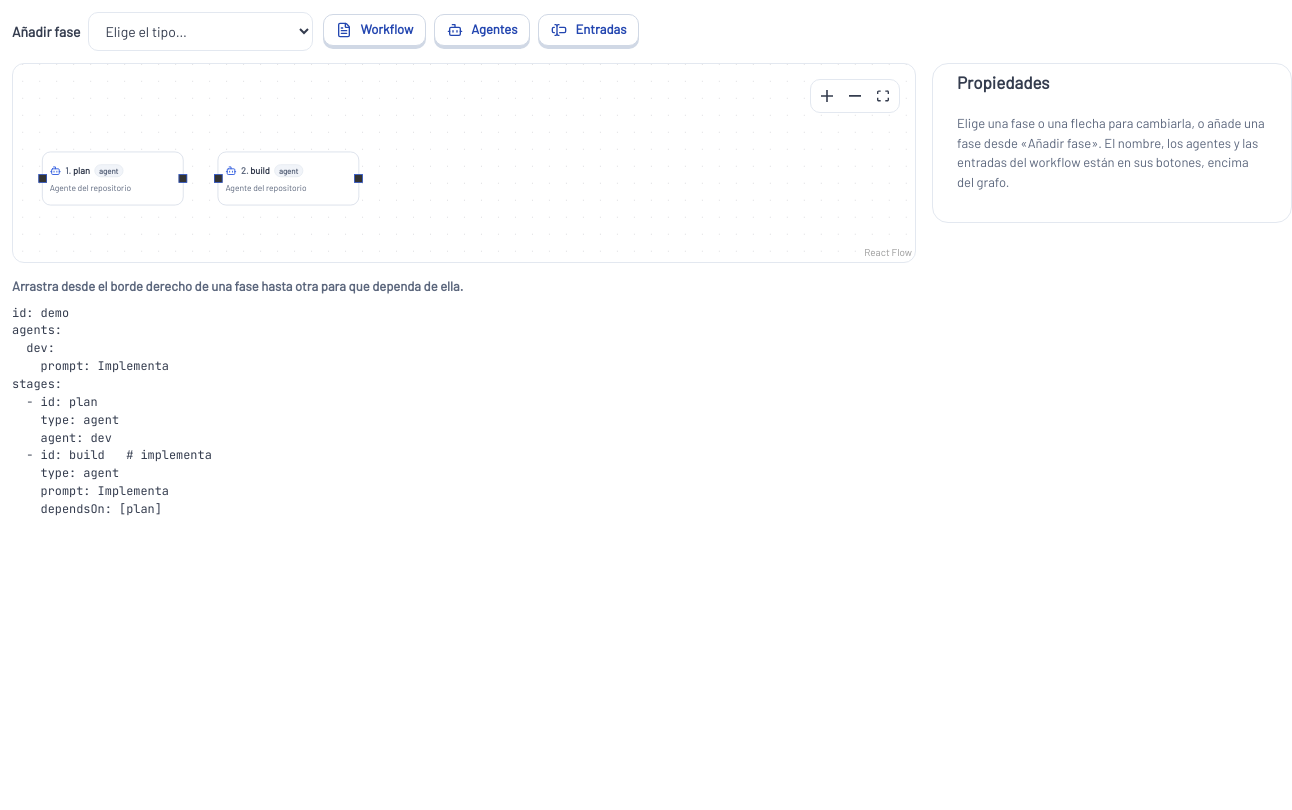
it: GraphEditor › renombra una fase desde su panel y actualiza lo que la nombra
The image size is (1292, 810).
Click the button "1. plan agent Agente del repositorio".
click(113, 178)  # box [43,152,183,205]
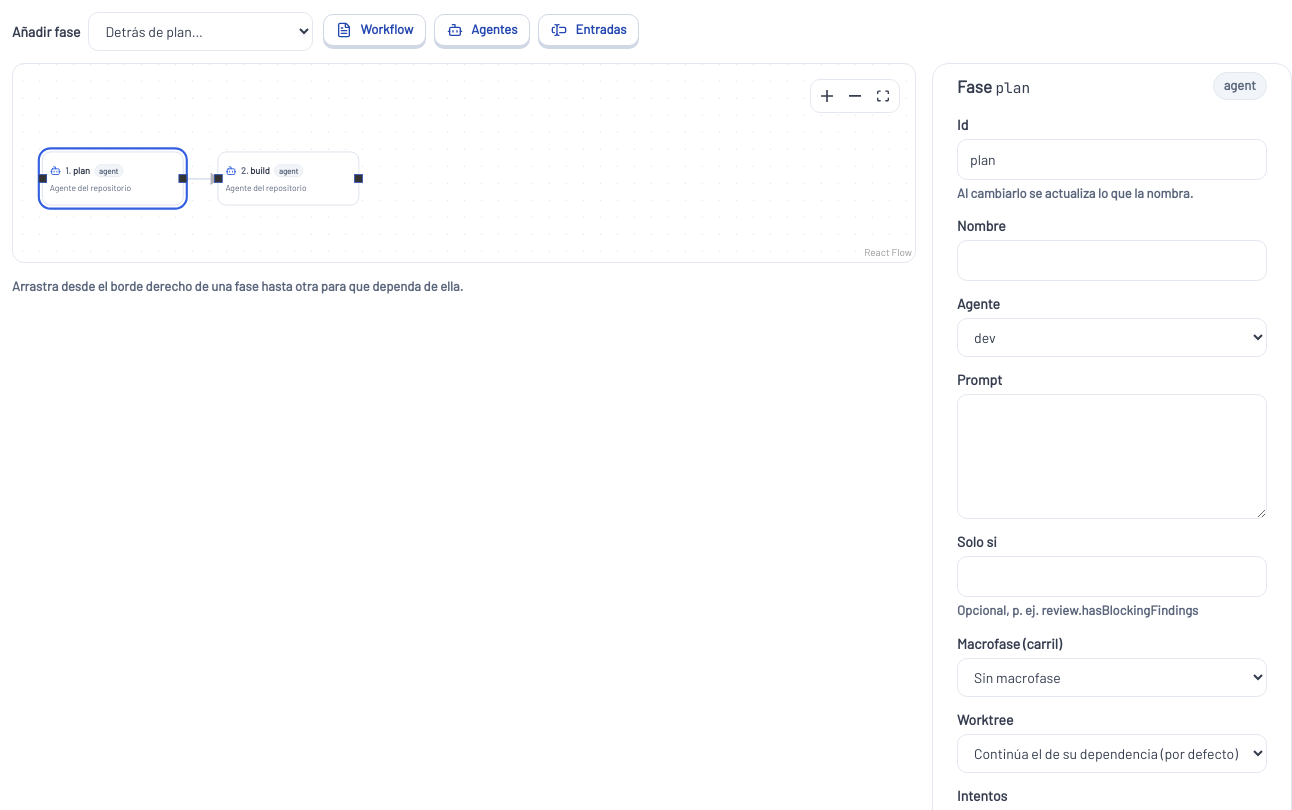
Replace the text in the field labelled "Id" with "planificar" at (1112, 159), box [957,138,1267,180]
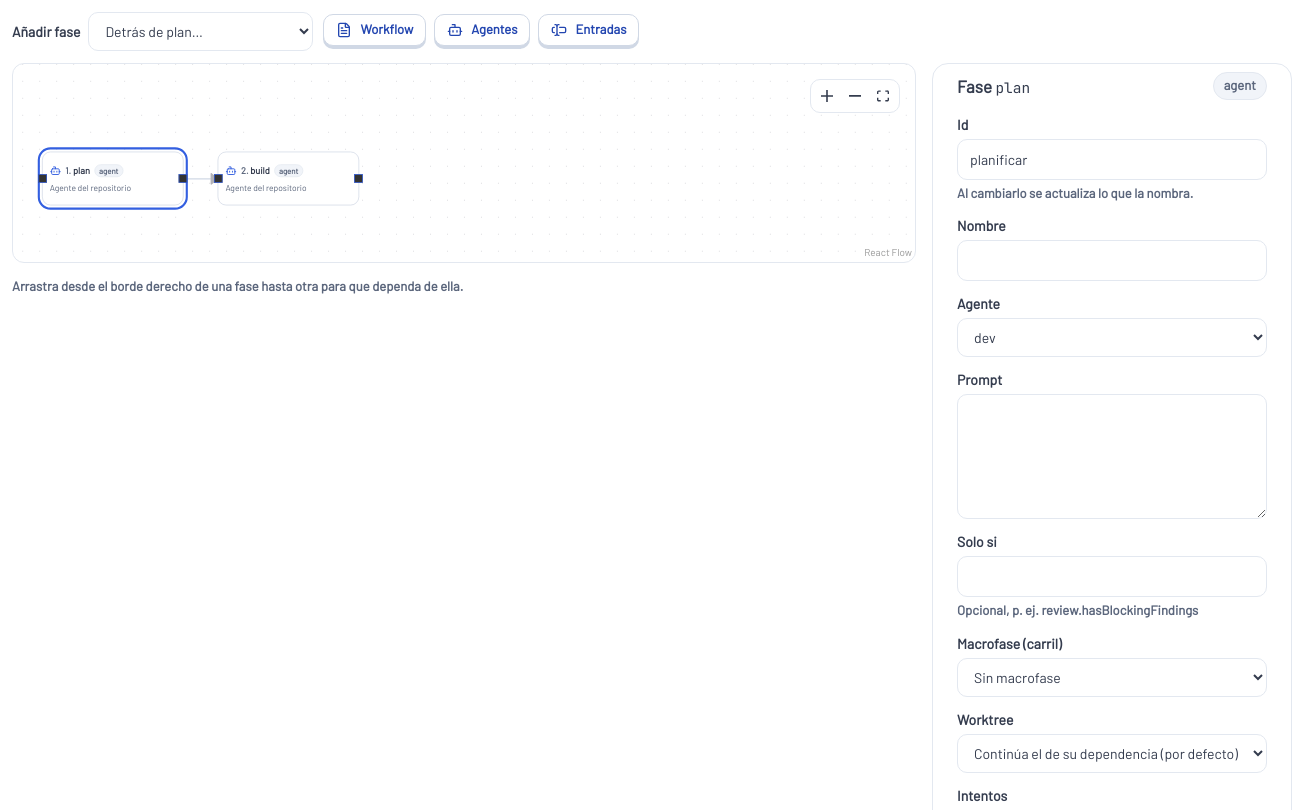
Press Enter in the field labelled "Id", box [957,138,1267,180]
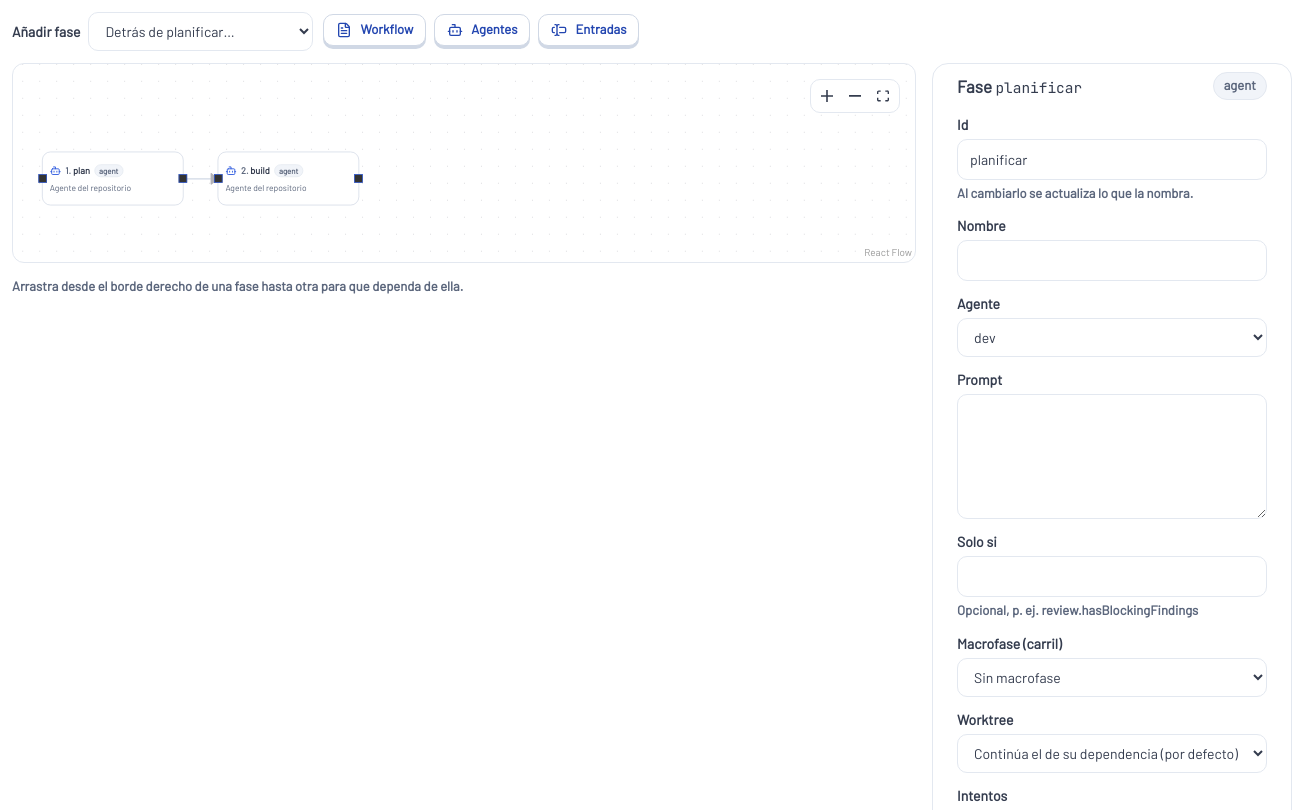
Now the heading "Fase planificar" is shown, box [957,76,1082,96]
